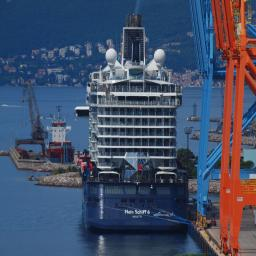cruises: (74, 13, 193, 238)
